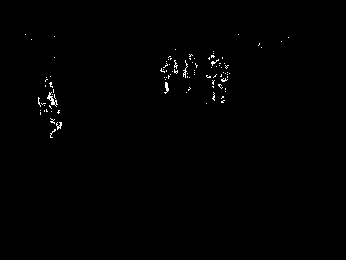person: (39, 77, 63, 138), (161, 55, 176, 95)
